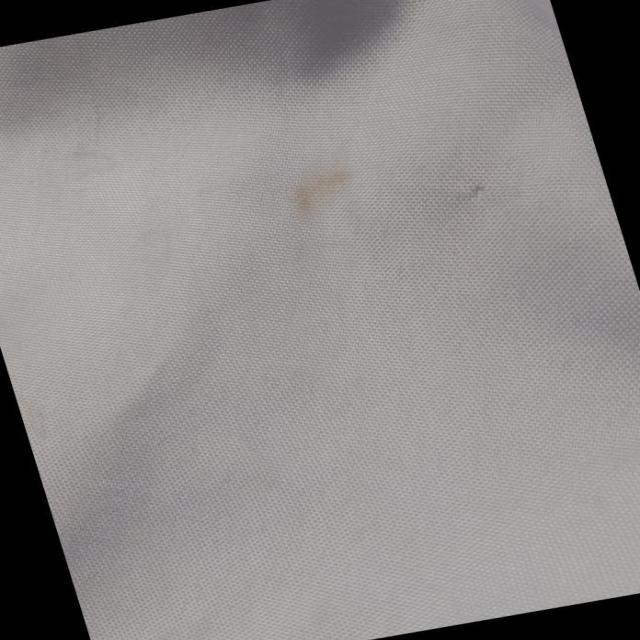stain: (271, 154, 380, 240)
